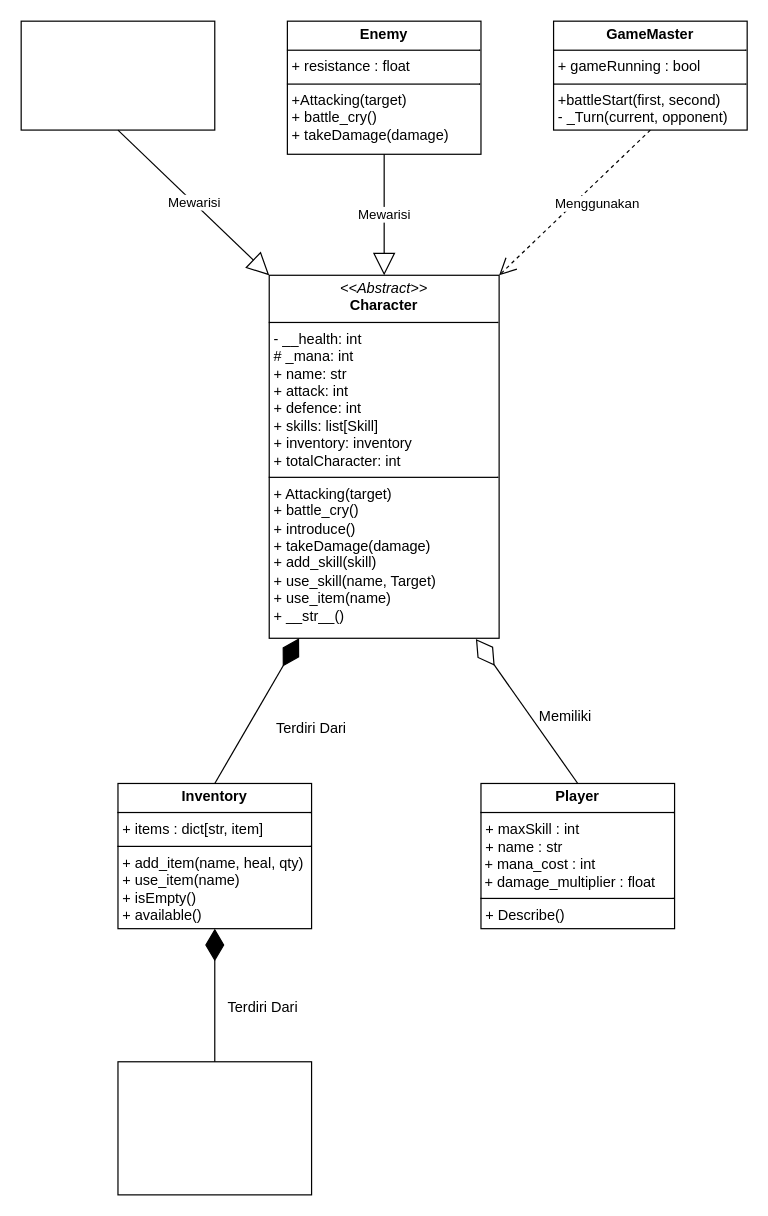
Image size: 768x1216. Some labels were removed from this diagram. The centre of each missing label's shape, as x and y in pixels:
"Player + crit : float + Attacking(target) + battle_cry()" belongs at point 117,75.
"Player + name : str + heal : int + quantity : int + Describe()" belongs at point 214,1128.
